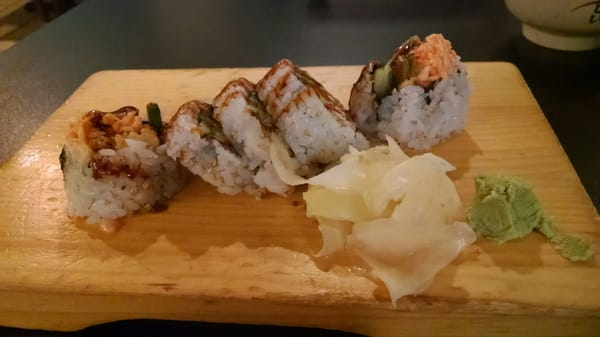pizza: (503, 2, 600, 53)
